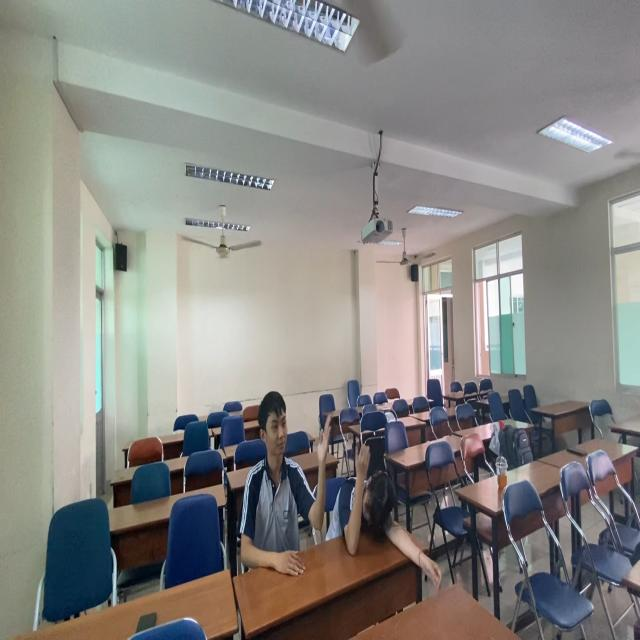raise_hand: (240, 389, 335, 577)
sleep: (342, 440, 442, 587)
